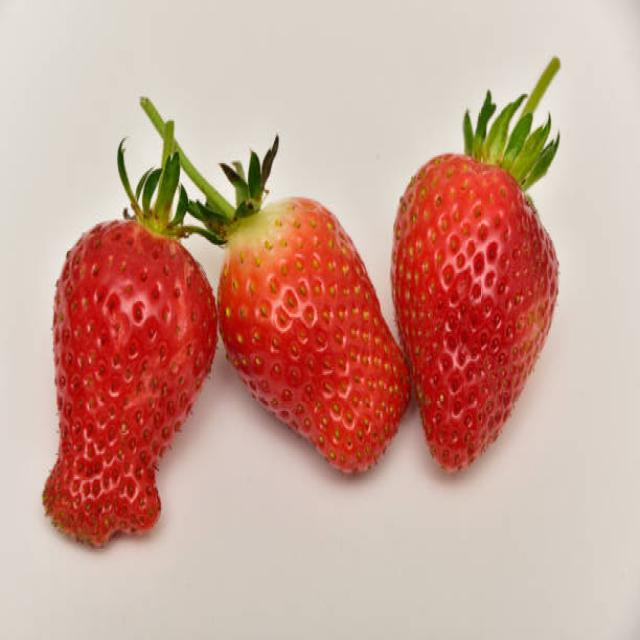Healthy Fruit: (40, 216, 216, 546), (390, 150, 560, 479), (216, 196, 413, 479)
